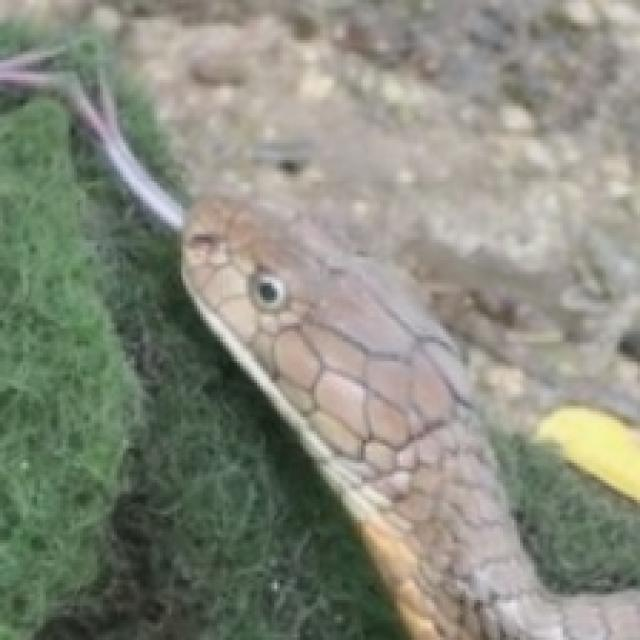king cobra: (186, 200, 637, 637), (0, 100, 131, 631)
